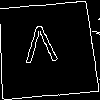V: (22, 24, 60, 73)
